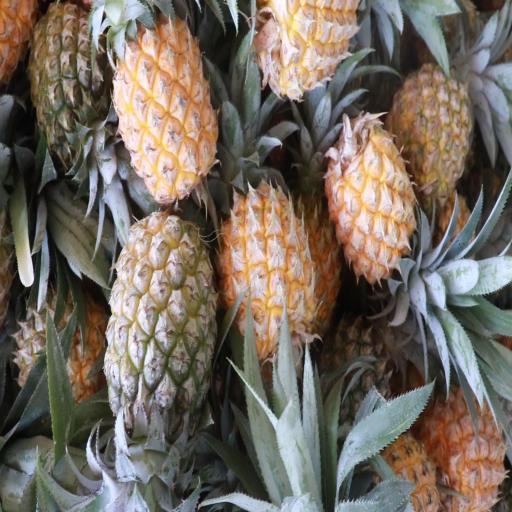------------------------------: (110, 207, 215, 427), (19, 284, 110, 420), (394, 65, 472, 200)
Pineapple - v8 v1: (114, 13, 218, 198), (222, 188, 310, 356), (326, 113, 411, 283), (426, 368, 504, 512), (259, 3, 362, 93)
